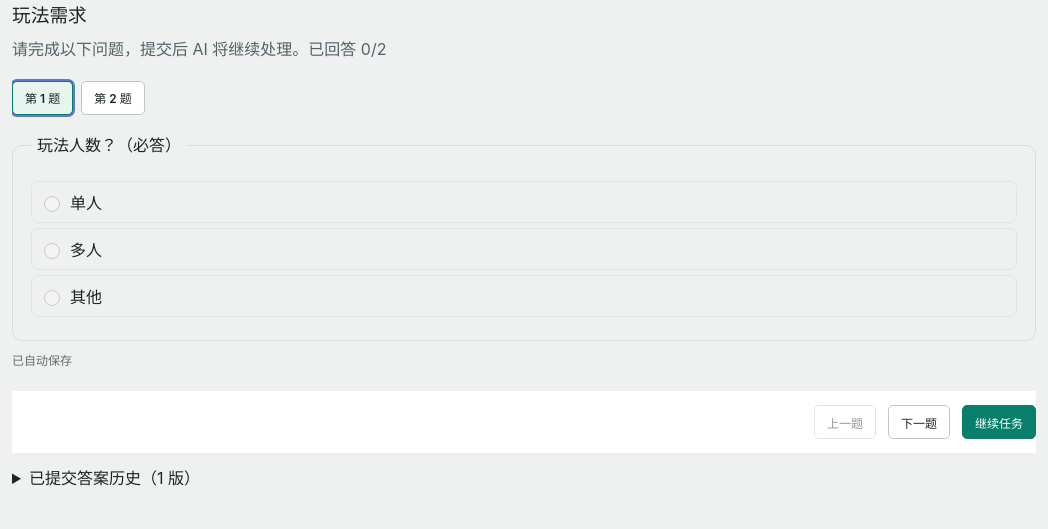
Scenario: connects the originating terminal and then resumes once with an accurate message
Click the button "继续任务": (999, 422) [962,405,1036,439]
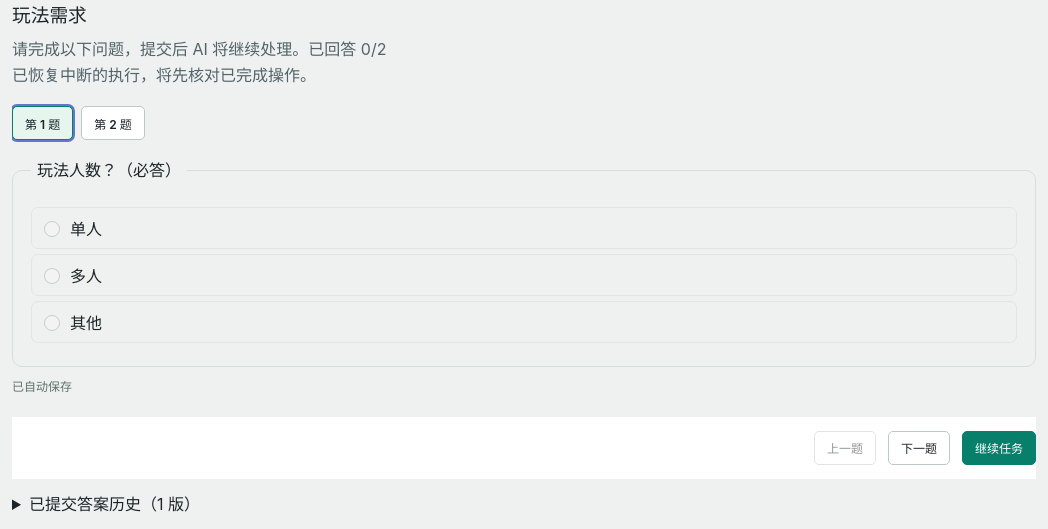
Expected: the text "已恢复中断的执行，将先核对已完成操作。" is shown, [12,65,316,85]
